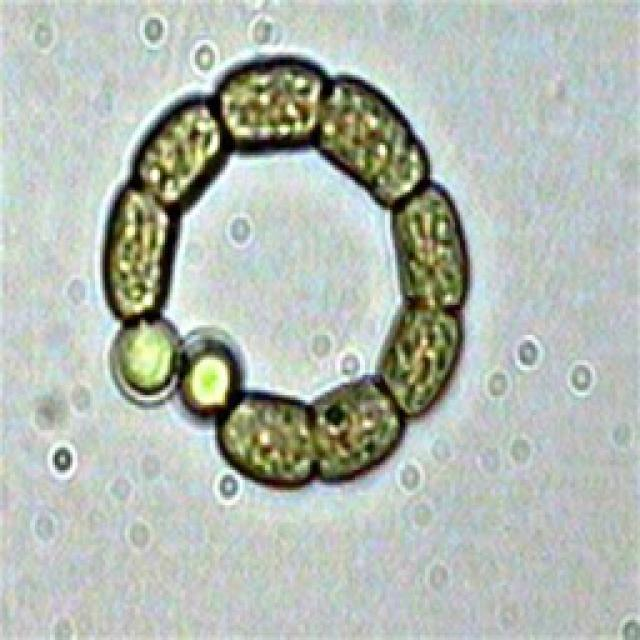Anabaena: (96, 47, 482, 505)
